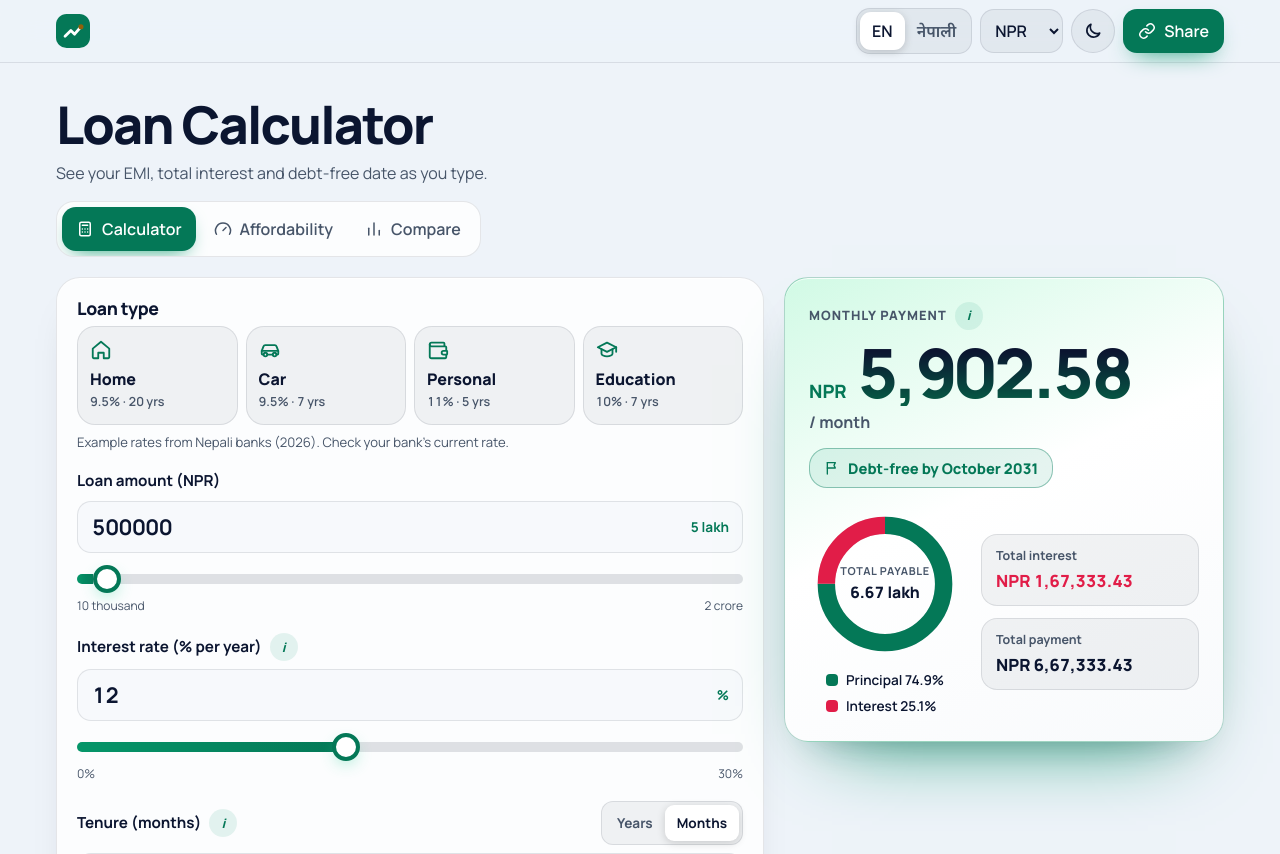
v2 redesign › loan presets fill amount, rate and tenure with labelled example rates
This screenshot has width=1280, height=854.
Step 1. Click the button "Home 9.5% · 20 yrs" → (157, 375), box [77, 326, 238, 425]
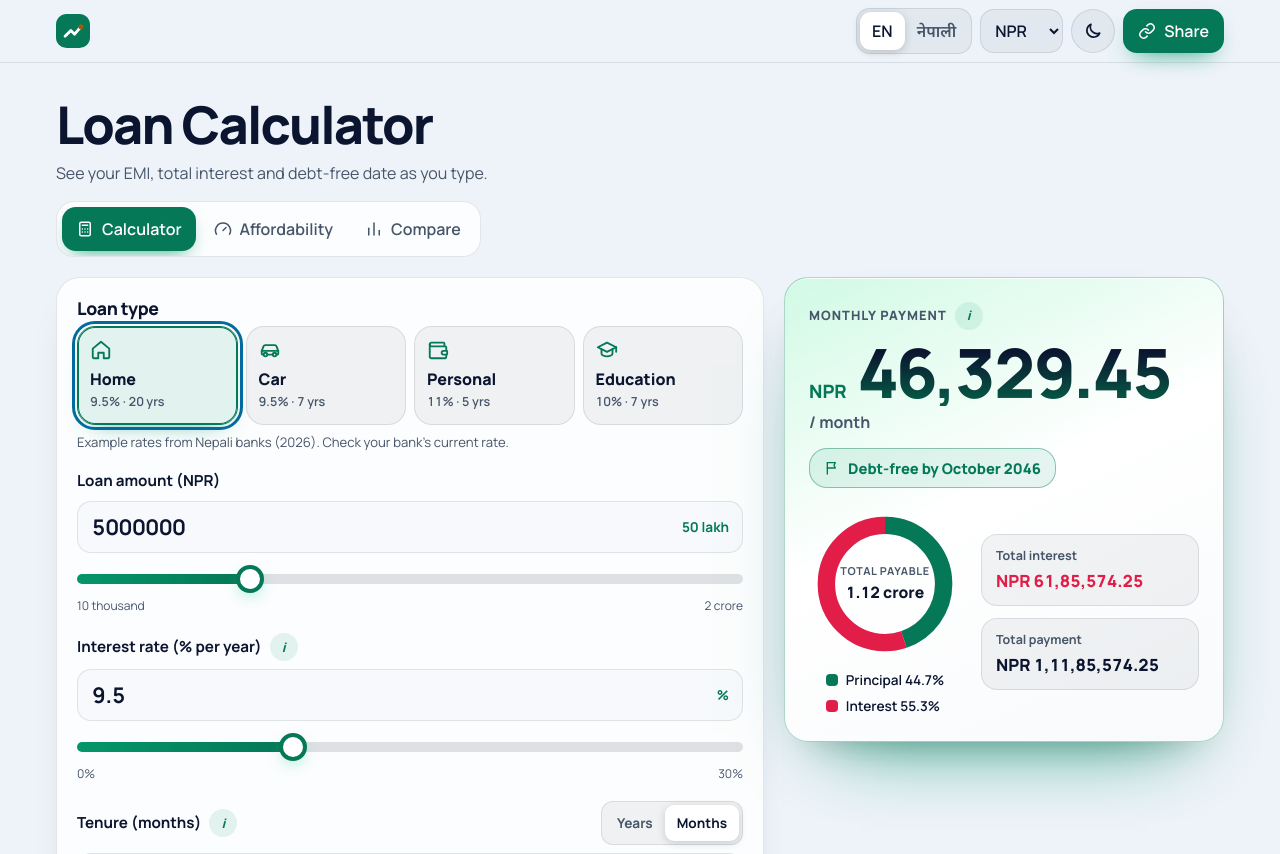
Check: the field labelled "Loan amount (NPR)" holds "5000000", box [77, 501, 743, 553]
Check: the field labelled "Interest rate (% per year)" holds "9.5", box [77, 669, 743, 721]
Check: the text "50 lakh" is shown, box [682, 517, 729, 537]
